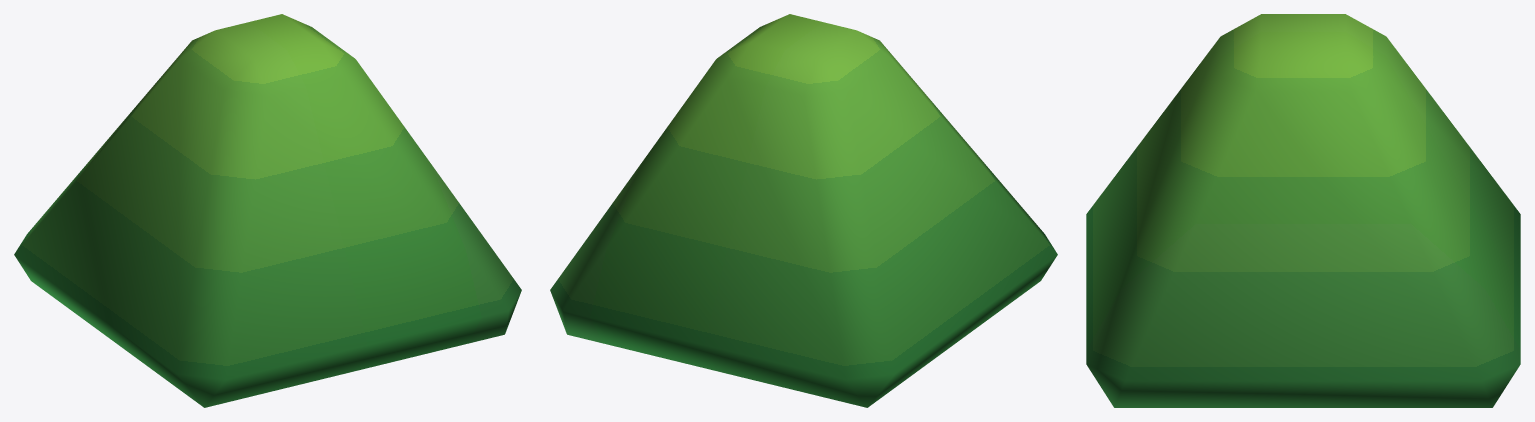
The model's file is Bush_4_A_Color1.glb.
3 views of the same model, side by side, from view 1: azimuth 30°, elevation 25°; view 2: azimuth 150°, elevation 25°; view 3: azimuth 270°, elevation 25° (orthographic). The views are drawn at different scales.
Visible parts, largest first — view 1: Bush_4_A_Color1; view 2: Bush_4_A_Color1; view 3: Bush_4_A_Color1.
Boxes of the visible parts, x1,y1,x2,y2 form: Bush_4_A_Color1: (14, 14, 521, 407); Bush_4_A_Color1: (550, 14, 1057, 407); Bush_4_A_Color1: (1086, 14, 1520, 407).
Size of the model in its own units: 0.5768 by 0.4344 by 0.5768.
1 material, 1 textured.
